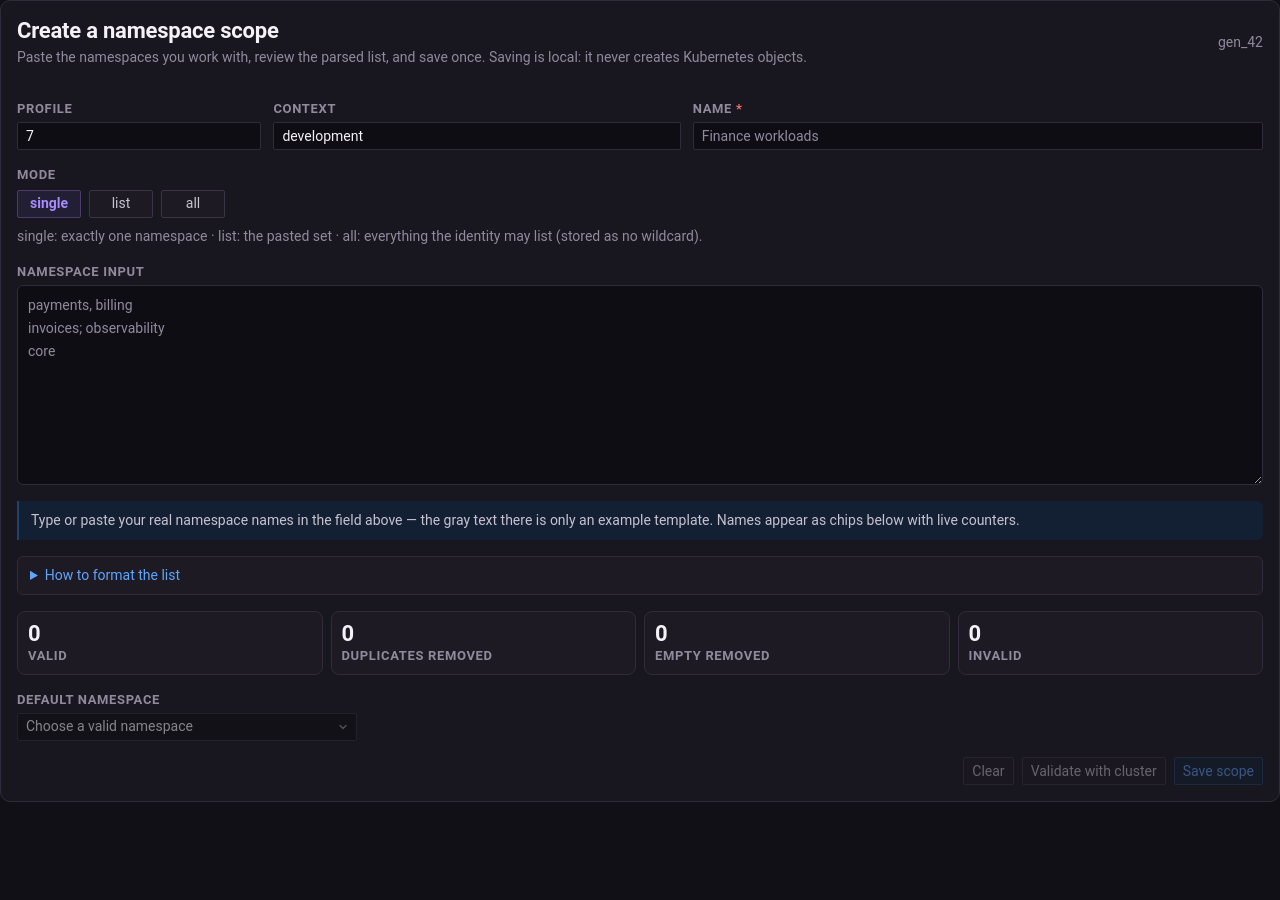
it: namespace scope editor › clears a newly saved scope only after a successful save (true)
In the text box labelled "Namespace input": (640, 385) [17,285,1263,485], type "payments"
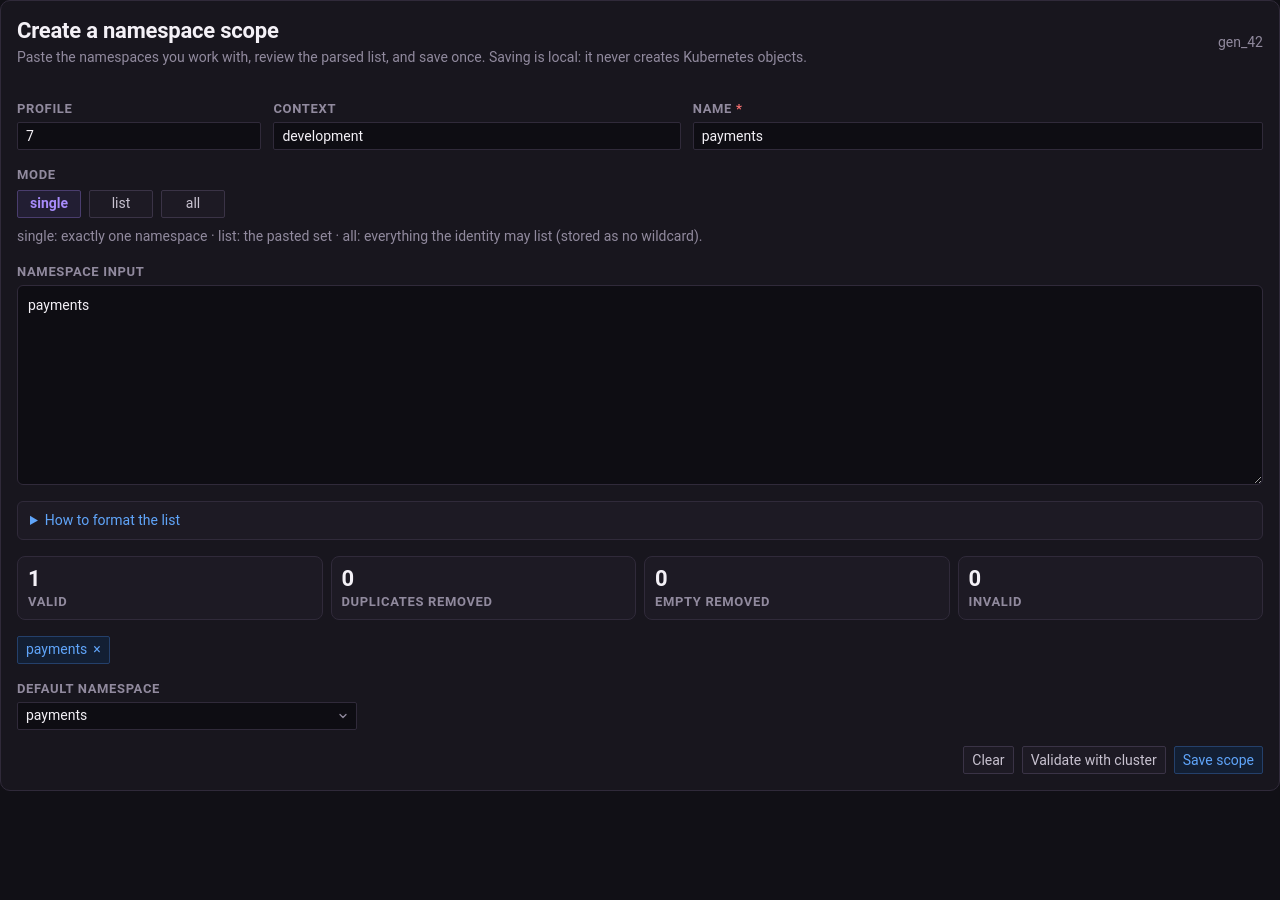
Replace the text in the field named "Scope name" with "New scope": (978, 136) [693,122,1263,150]
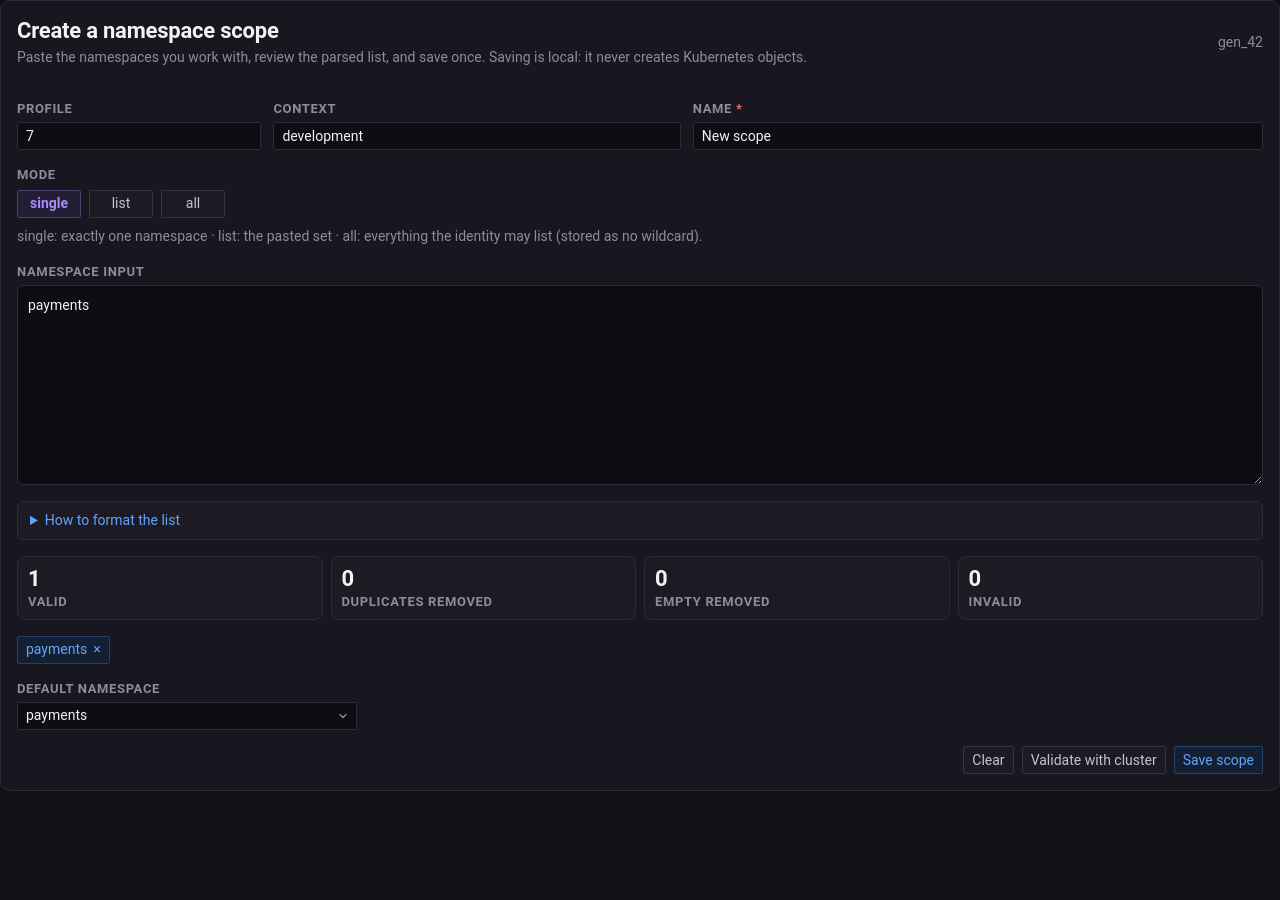
Click the button "Save scope": click(1218, 760) [1174,746,1263,774]
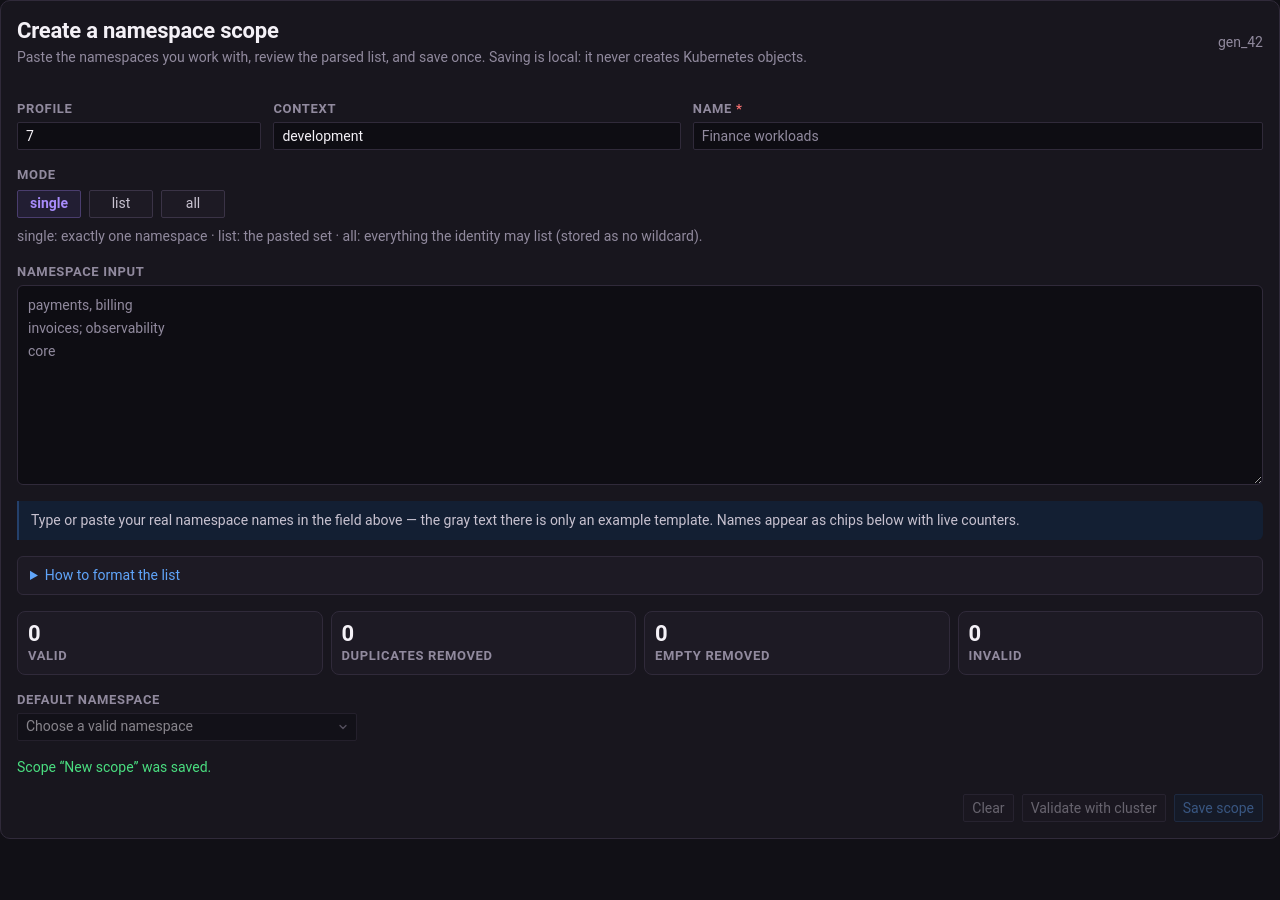
Check: the text "Scope “New scope” was saved." is shown, box [17,759,211,775]
Check: the text box labelled "Namespace input" is empty, box [17,285,1263,485]
Check: the field named "Scope name" is empty, box [693,122,1263,150]
